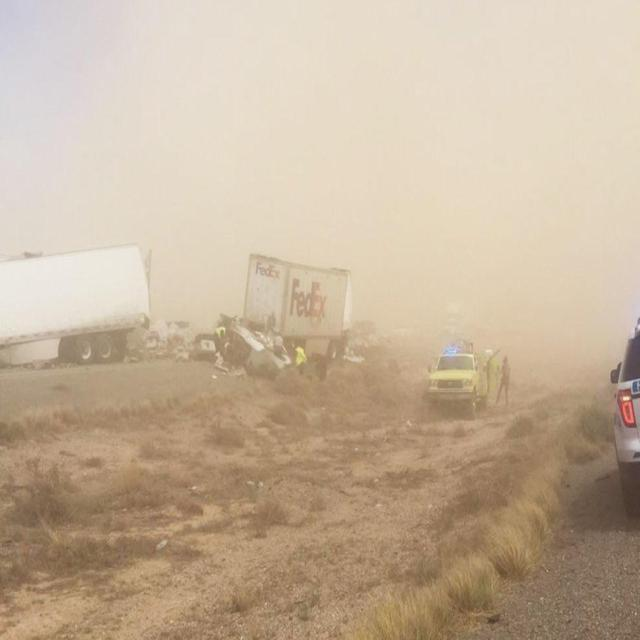Car: (605, 307, 640, 517)
Truck: (0, 240, 157, 369), (230, 252, 354, 364), (422, 338, 501, 420)
